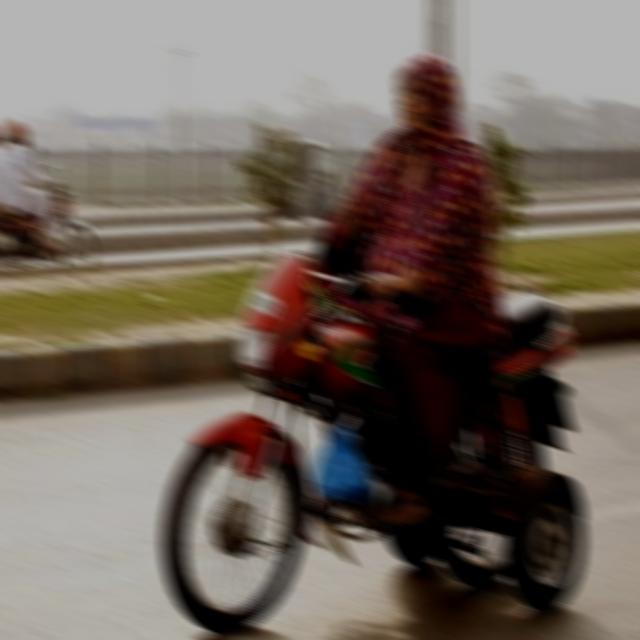Without Helmet: (378, 37, 472, 150)
